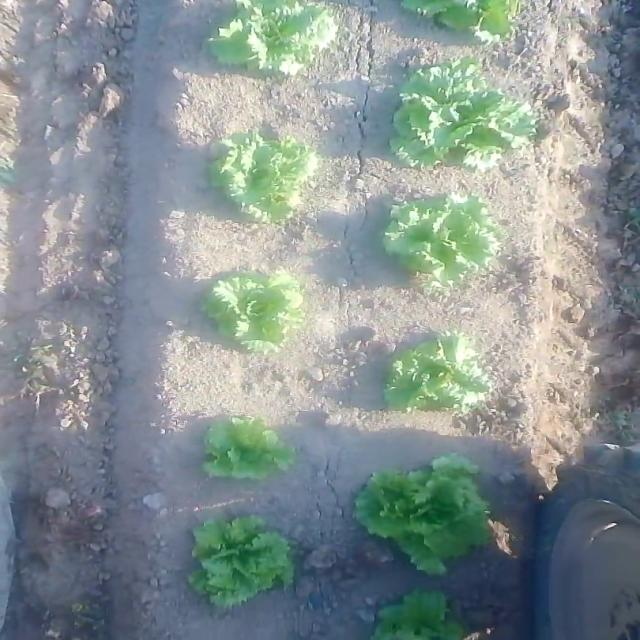Lettuce-Ready-to-Harvest: (347, 453, 496, 583), (386, 59, 539, 170), (382, 192, 506, 294), (183, 513, 297, 616), (208, 0, 343, 79), (206, 132, 320, 225), (373, 329, 493, 413), (196, 270, 306, 357), (196, 418, 303, 486), (392, 0, 520, 48), (362, 587, 464, 640)
